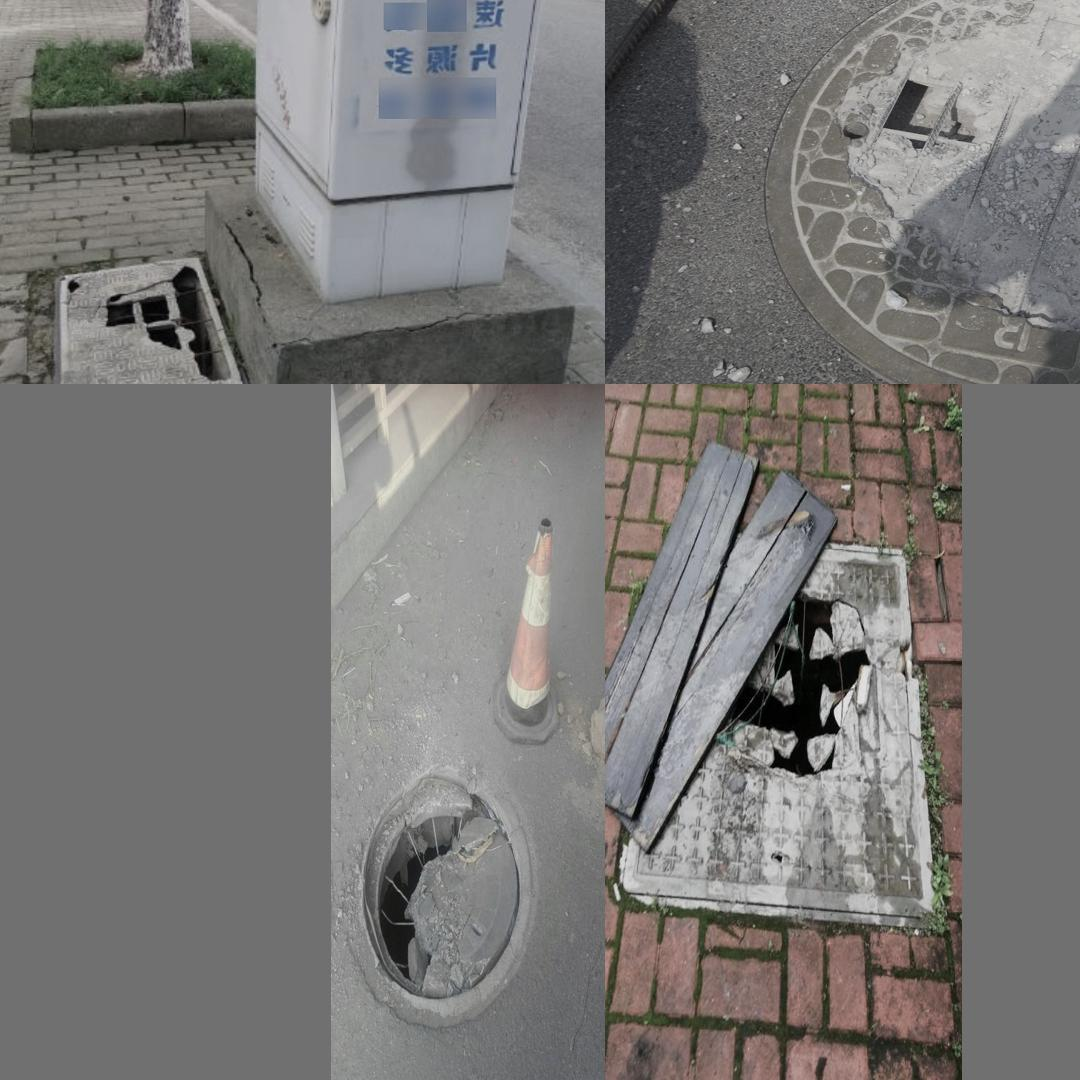broke: (612, 504, 935, 936), (760, 0, 1080, 384), (339, 744, 539, 1021), (46, 253, 252, 384)
